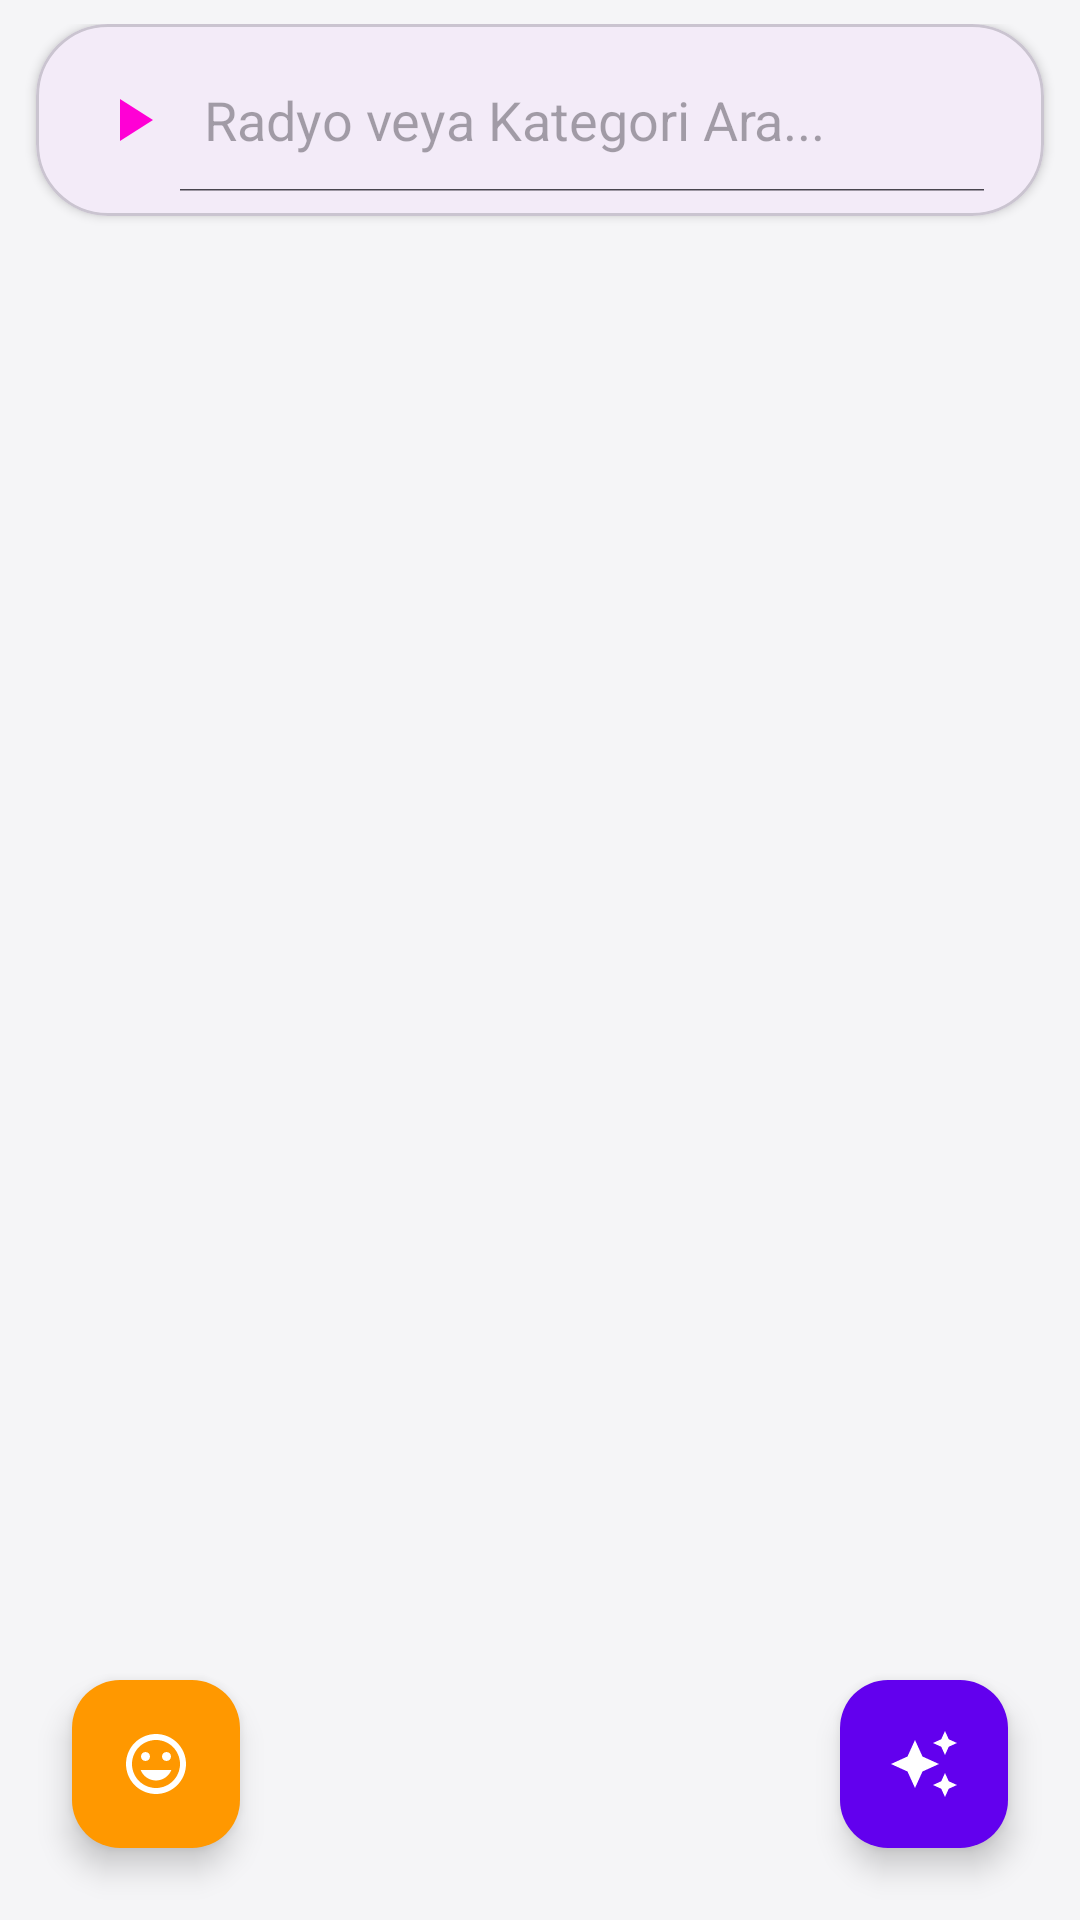

Named icons in this screenshot (1080 x 1920) and their centers, (x=x, y=y):
Ruh Haline Göre Çal: (x=156, y=1764)
Yapay Zeka Önerisi: (x=924, y=1764)
